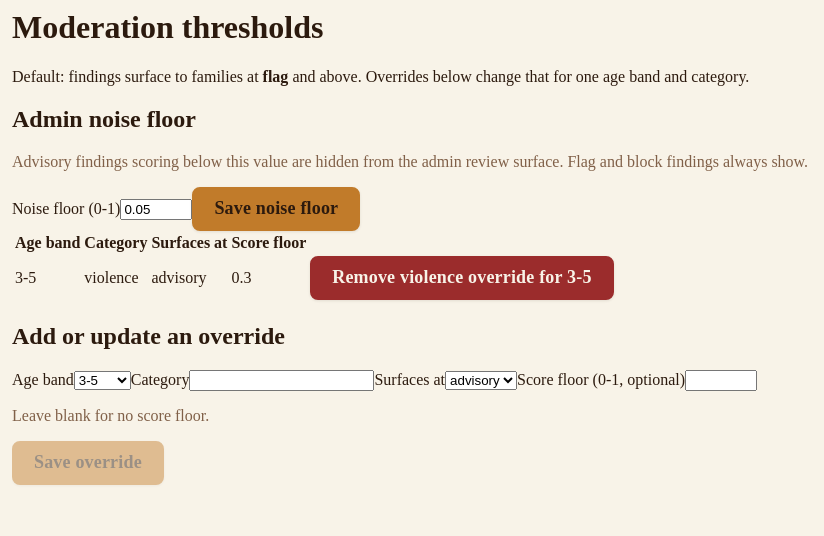
Test: ModerationThresholdsPage › surfaces a post-save refresh failure as a scoped alert without losing the table
expect the text "surface to families at" is shown: met, box [12,68,263,85]
Type "toxicity" into the field labelled "Category".
click(282, 380); type("toxicity")  # box [189,370,374,390]
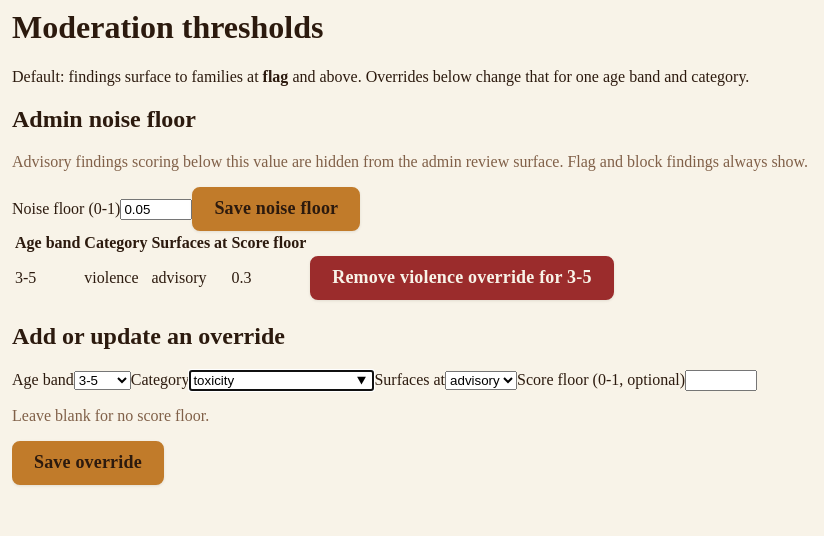
Click the button "Save override".
click(88, 462)  # box [12,440,164,484]
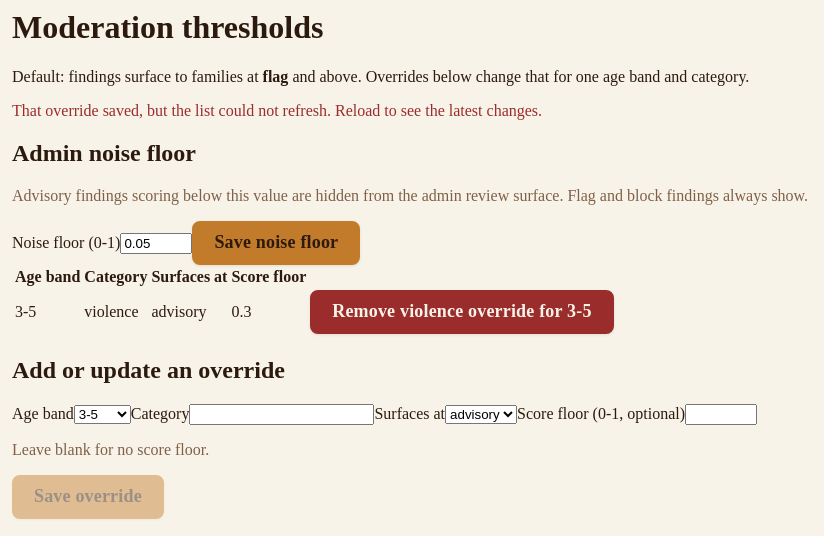
expect the text "violence" is shown: met, box [83,289,148,335]
expect the message shows "could not refresh": met, box [12,102,542,119]
